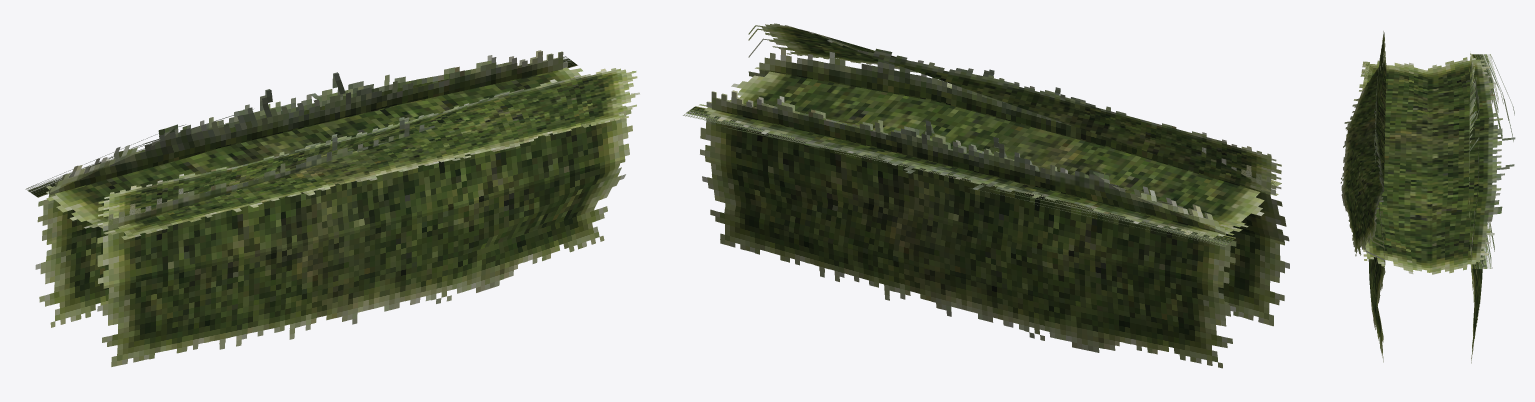
Rendered from Hedge2.fbx.
3 renders of one model, left to right at view 1: azimuth 30°, elevation 25°; view 2: azimuth 150°, elevation 25°; view 3: azimuth 270°, elevation 25°, orthographic. The views are drawn at different scales.
Parts seen in each view (by area): view 1: Hedge.003; view 2: Hedge.003; view 3: Hedge.003.
Part boxes in pixels (x1=…): Hedge.003: x1=25, y1=50, x2=639, y2=366; Hedge.003: x1=683, y1=23, x2=1289, y2=368; Hedge.003: x1=1340, y1=31, x2=1515, y2=363.
Bounding box in the file's own units: 1381 × 491 × 491.
Materials: 1 (1 with a texture image).
